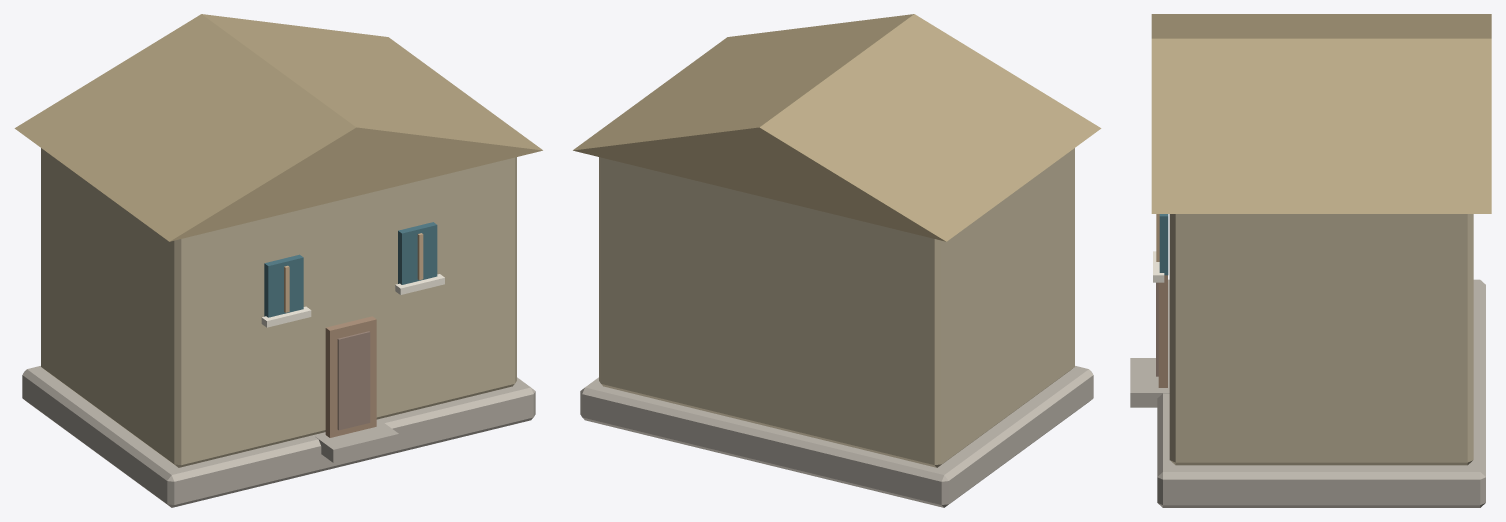
File: salt_pan_shed_near-Bat7mrLW.glb
3 renders of one model, left to right at view 1: azimuth 30°, elevation 25°; view 2: azimuth 150°, elevation 25°; view 3: azimuth 270°, elevation 25°, orthographic. The views are drawn at different scales.
Parts seen in each view (by area): view 1: salt_pan_shed_near; view 2: salt_pan_shed_near; view 3: salt_pan_shed_near.
Part boxes in pixels (left/top/right/bottom): salt_pan_shed_near: left=14, top=14, right=542, bottom=507; salt_pan_shed_near: left=573, top=14, right=1101, bottom=507; salt_pan_shed_near: left=1130, top=14, right=1491, bottom=507.
Bounding box in the file's own units: 6.55 × 5.69 × 4.99.
